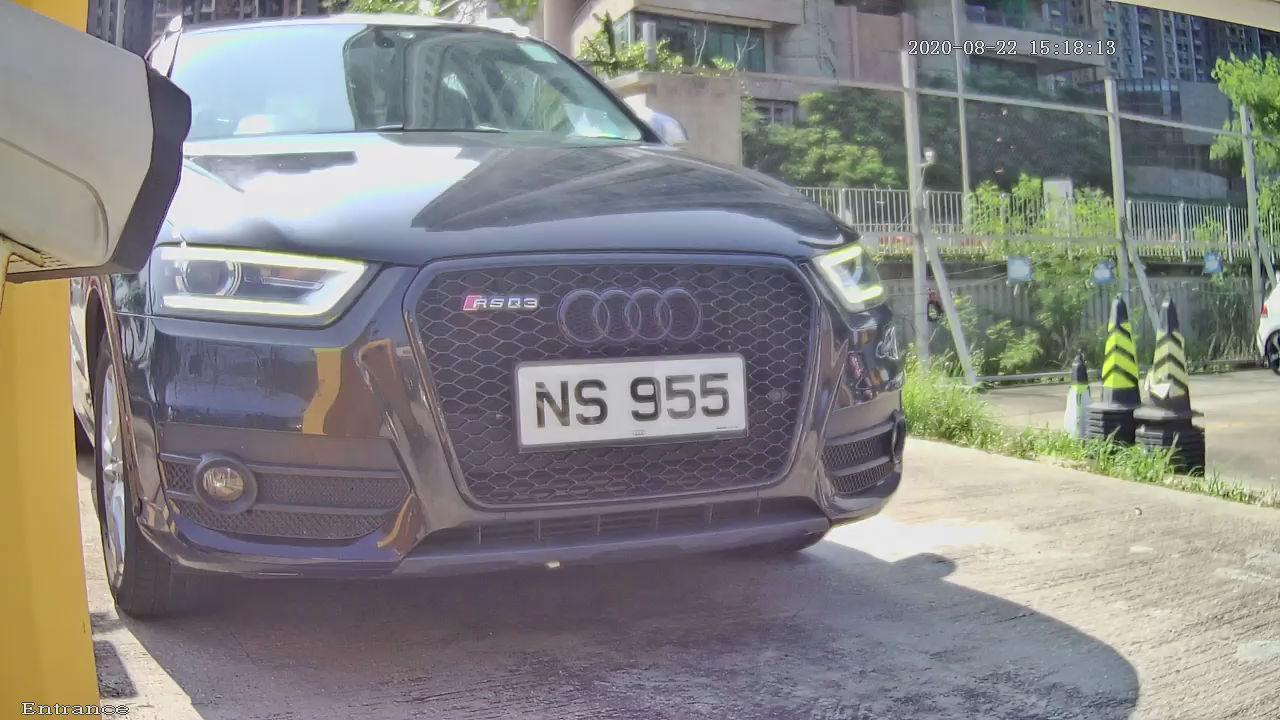Car: (35, 13, 978, 643)
License Plate: (499, 335, 762, 457)
